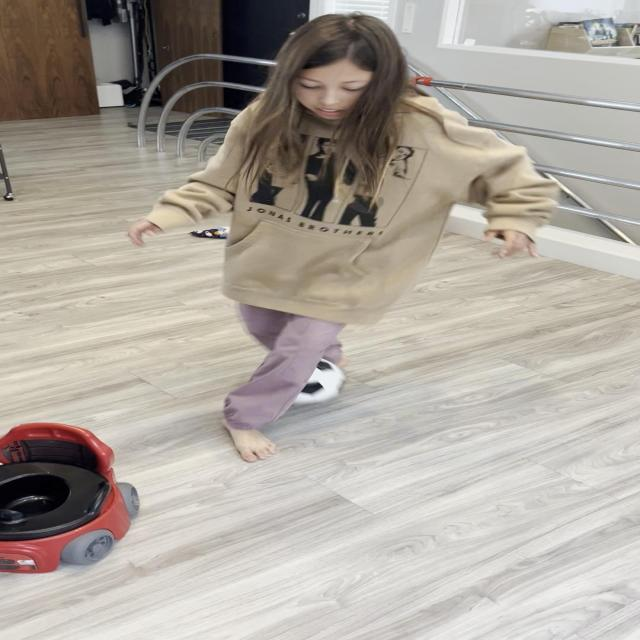Soccer Ball: (263, 357, 347, 405)
